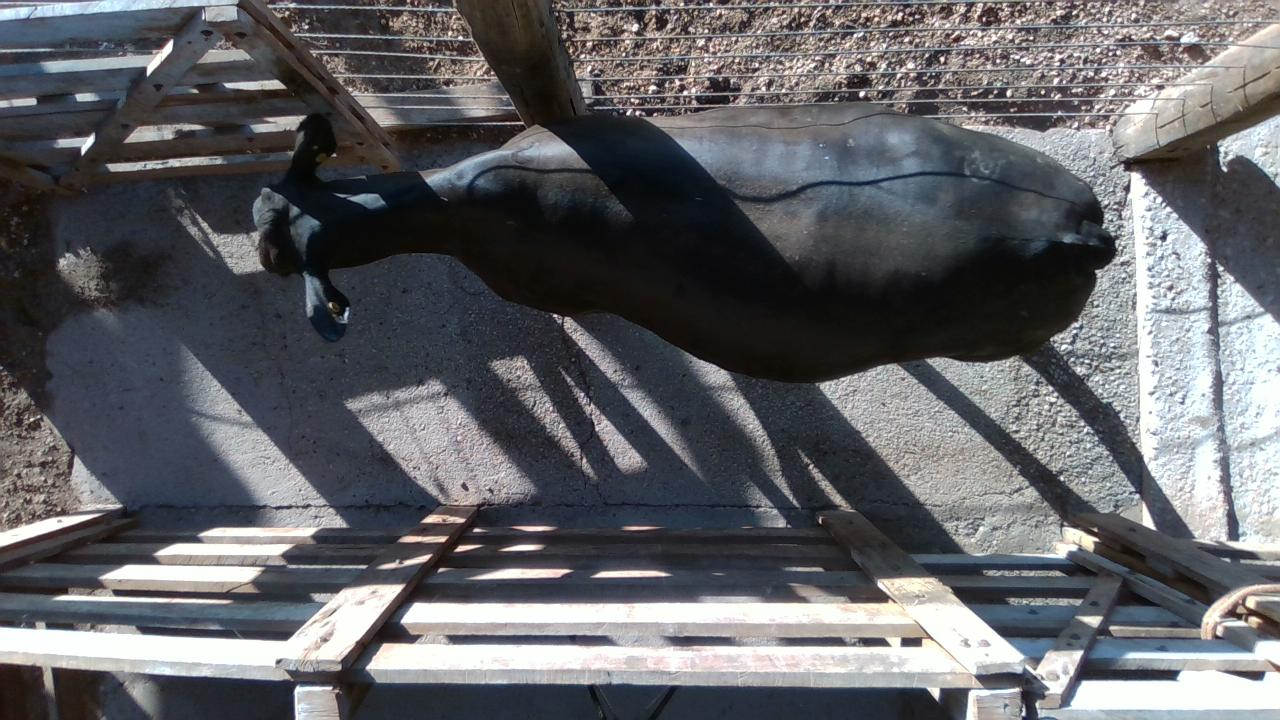cattle: (251, 100, 1117, 384)
